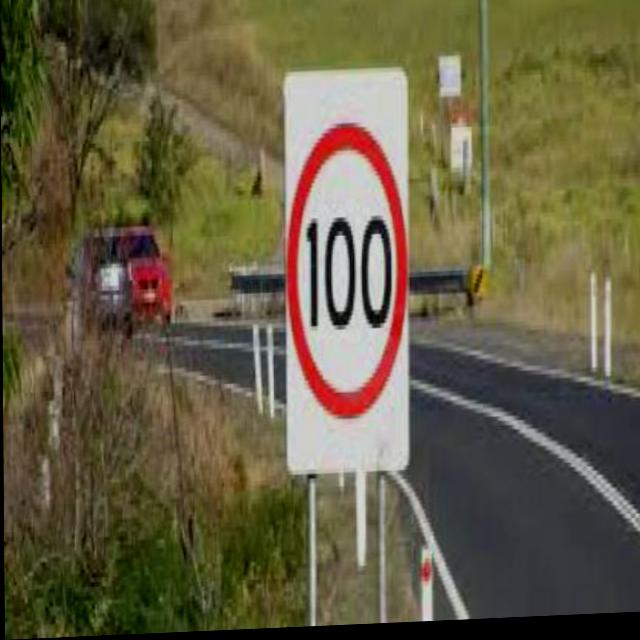limit100: (256, 115, 432, 435)
